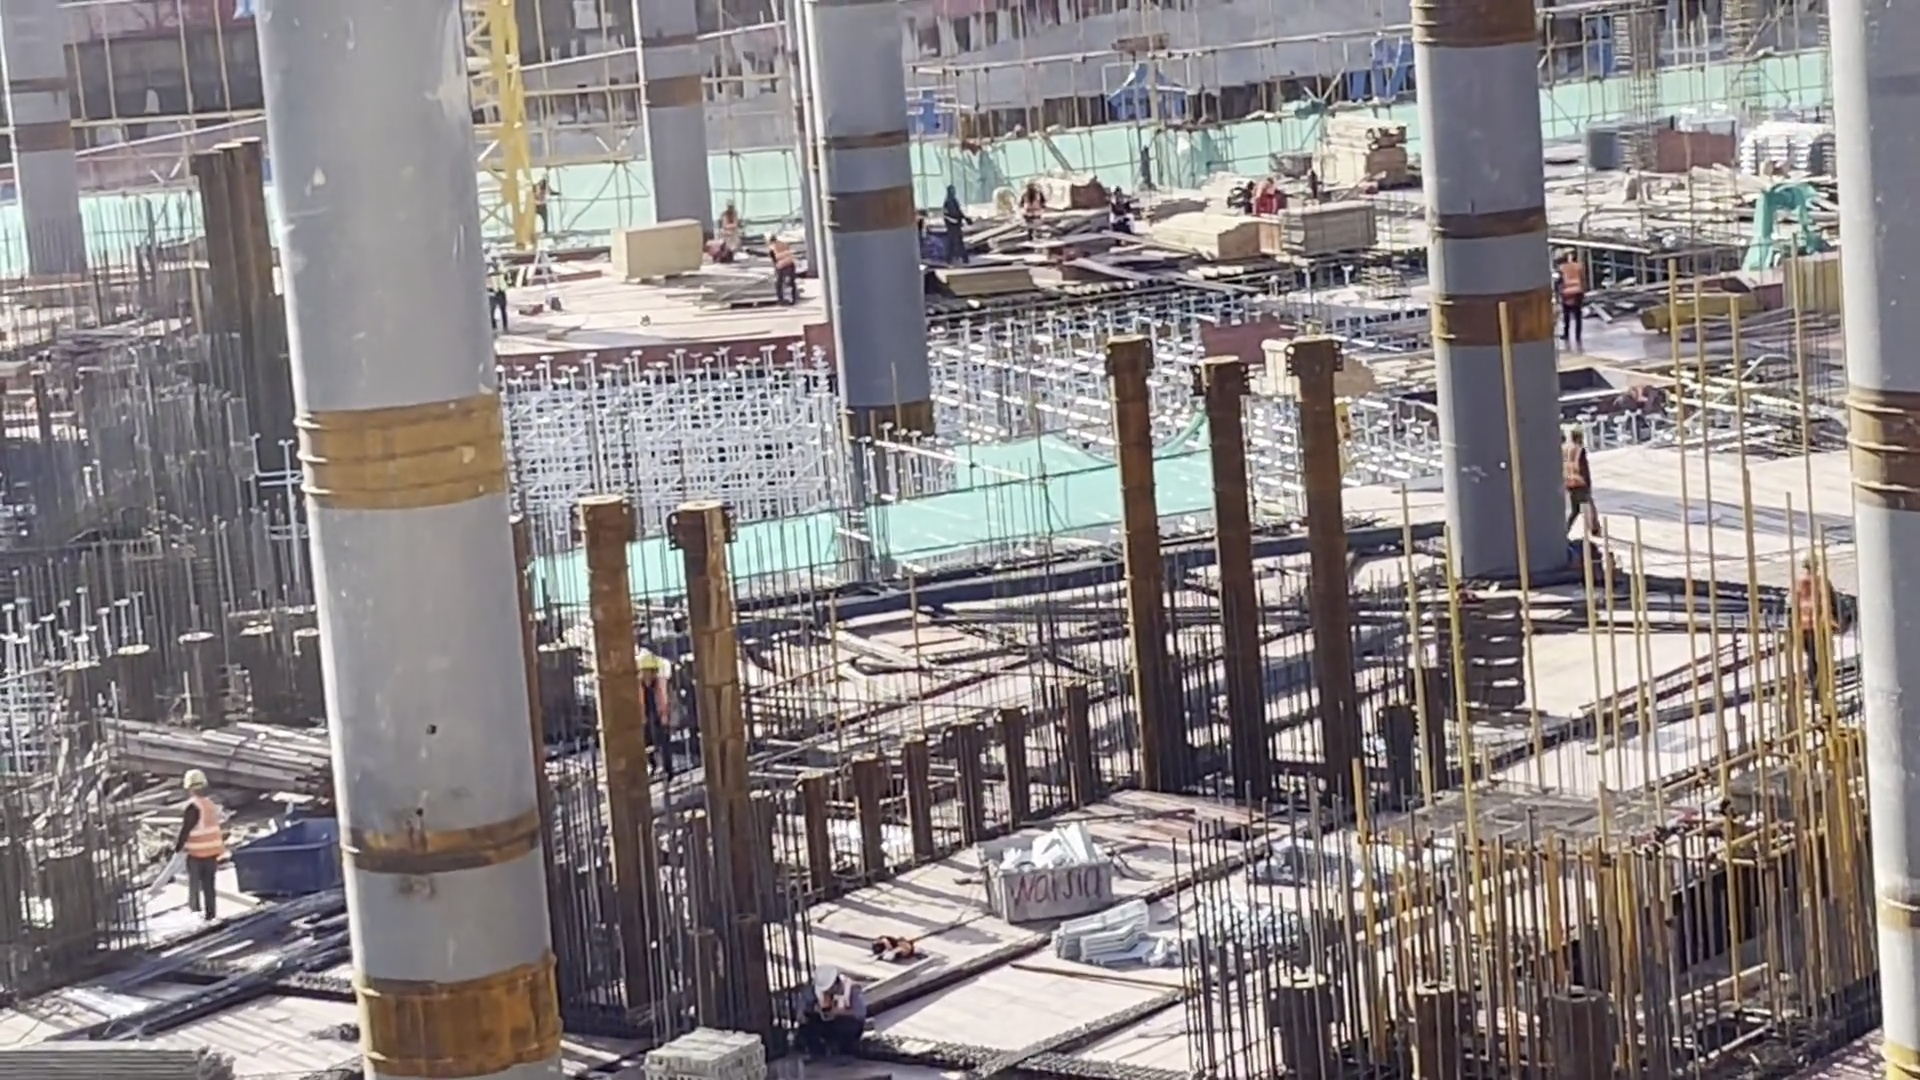helmet: (796, 964, 847, 1001), (175, 765, 216, 797), (629, 645, 661, 667), (1561, 411, 1587, 433), (482, 242, 500, 256)
hopper: (975, 816, 1138, 927), (241, 795, 356, 909)
person: (155, 756, 251, 924), (621, 638, 685, 761), (793, 957, 875, 1046), (1554, 420, 1611, 541), (470, 241, 516, 345), (1552, 242, 1600, 339), (1227, 171, 1301, 230), (928, 179, 980, 263), (754, 223, 803, 306), (1011, 179, 1053, 246), (522, 168, 563, 234), (715, 202, 752, 268), (1131, 135, 1160, 201)
vest: (181, 798, 223, 863), (635, 672, 674, 731), (1561, 445, 1587, 492), (1553, 255, 1579, 296), (771, 244, 797, 267), (485, 264, 500, 289), (946, 204, 963, 224)
wood: (1, 1032, 234, 1080)
